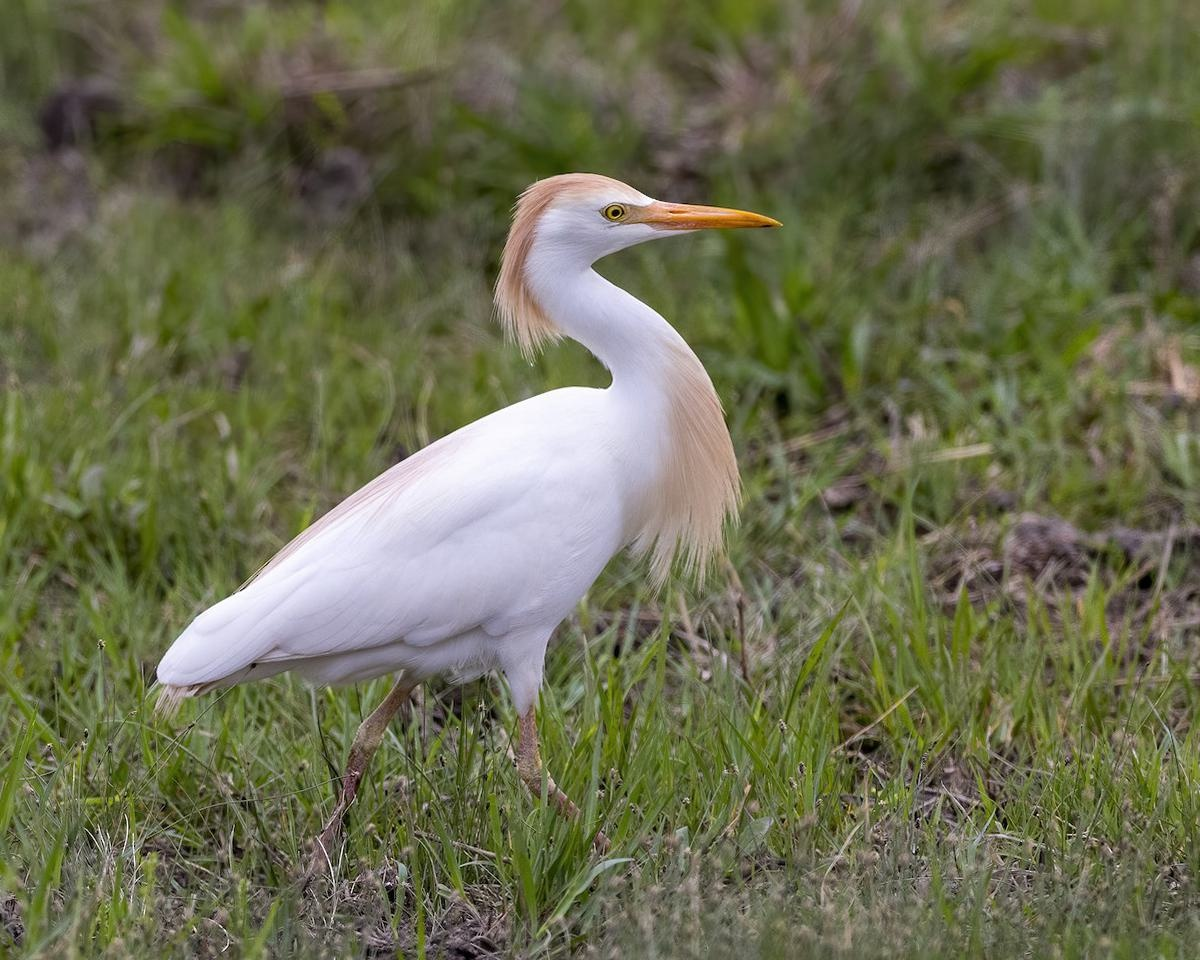egret: (162, 149, 800, 741)
